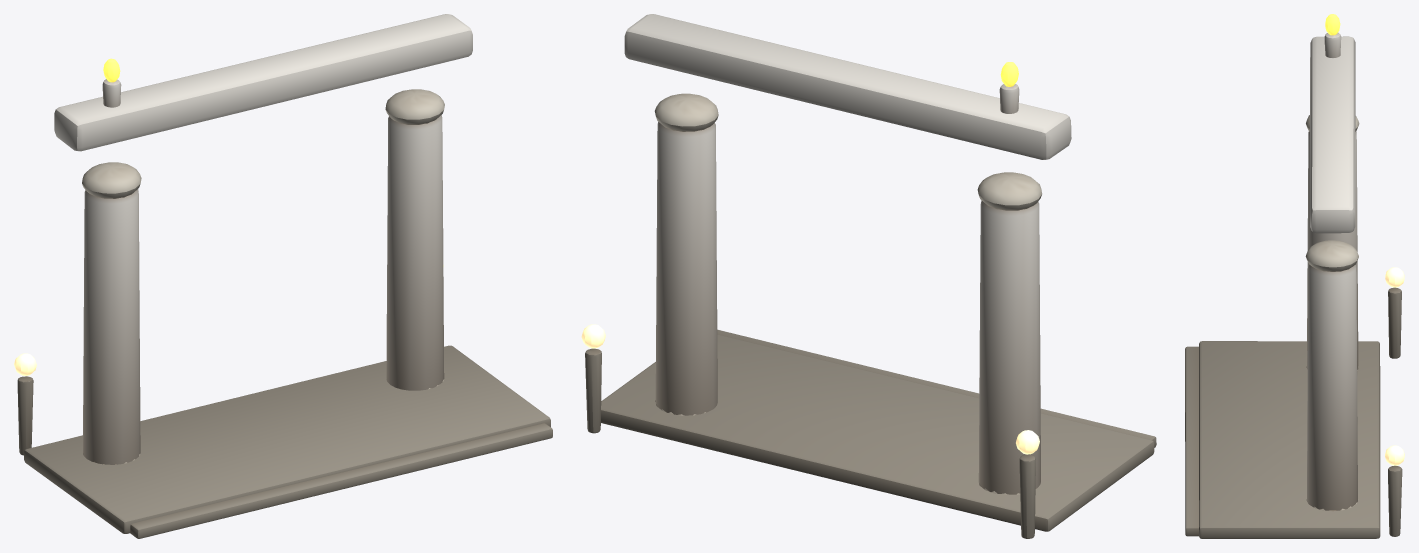
The picture shows the model from 3 angles, left to right: view 1: azimuth 30°, elevation 25°; view 2: azimuth 150°, elevation 25°; view 3: azimuth 270°, elevation 25°; orthographic projection. The views are drawn at different scales.
Parts seen in each view (by area): view 1: gate_cc002a1f; view 2: gate_cc002a1f; view 3: gate_cc002a1f.
Part boxes in pixels (box(x1,y1,x2,y2)): gate_cc002a1f: box(14, 14, 552, 538); gate_cc002a1f: box(581, 14, 1156, 538); gate_cc002a1f: box(1185, 14, 1404, 538).
Size of the model in its own units: 5.15 by 4.68 by 2.55.
